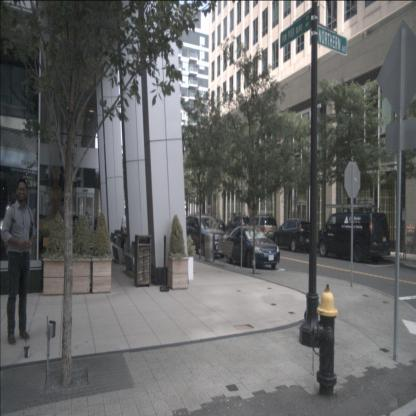human-pedestrian-adult: (1, 178, 36, 344), (120, 208, 130, 254)
vehicle-car: (318, 212, 390, 263), (224, 226, 280, 268), (184, 214, 228, 258), (273, 219, 314, 252), (244, 215, 278, 246), (225, 214, 250, 236), (204, 219, 226, 240)
